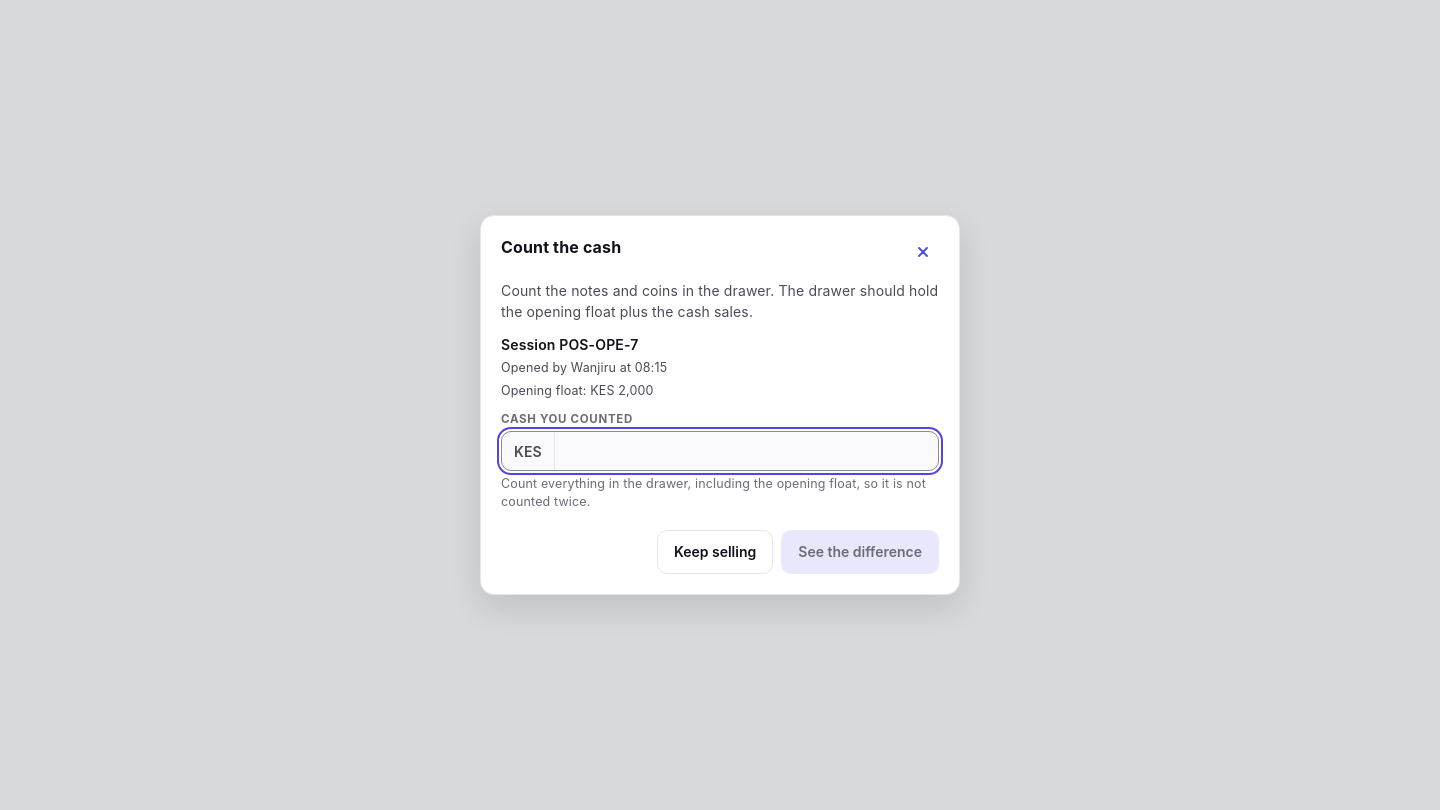
Test case: the shift-end count dialog › an over count shows an info icon and "Over by KES 100"
The image size is (1440, 810).
Type "5600" into the field labelled "Cash you counted" at (746, 451), box [555, 432, 938, 470]
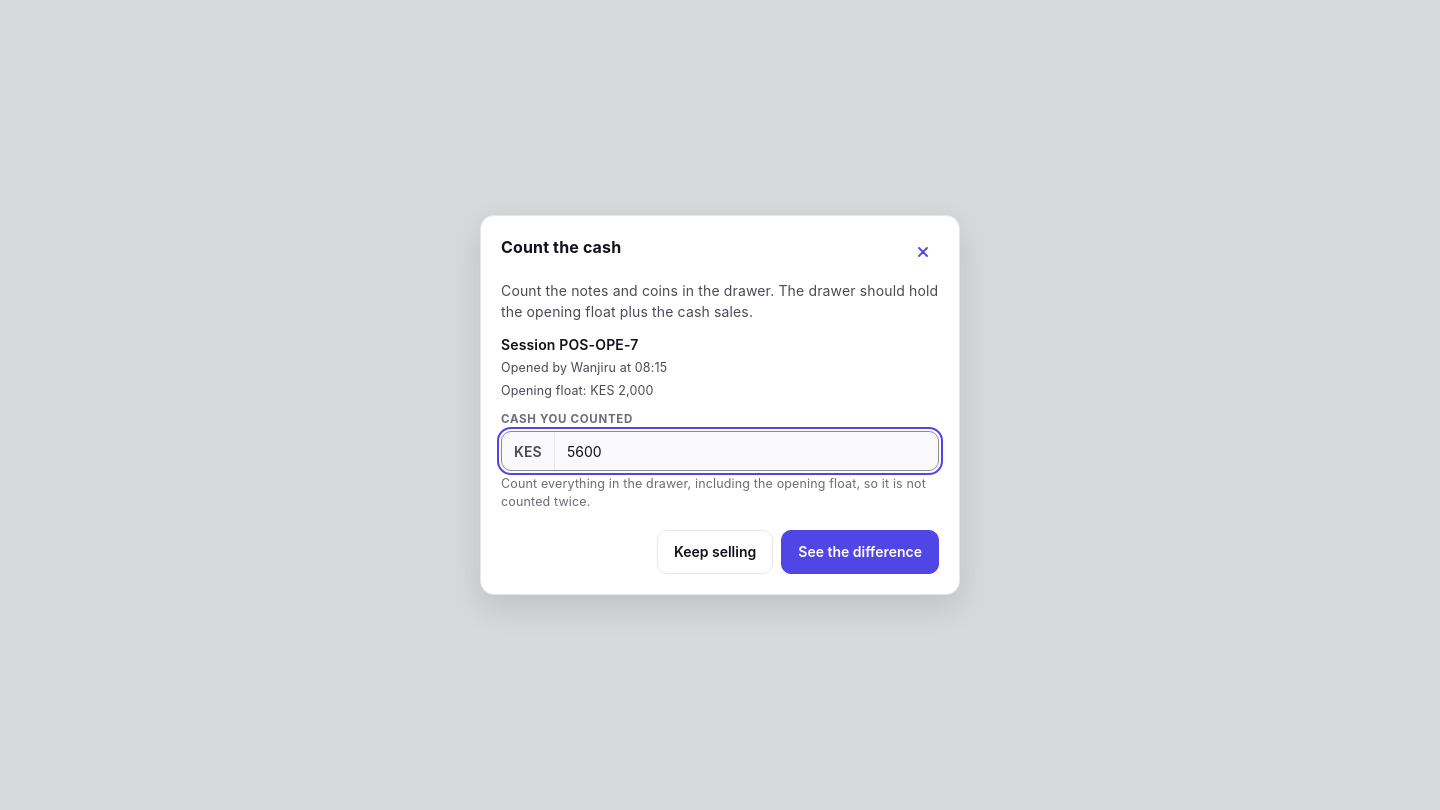
Click the button "See the difference" at (860, 552), box [781, 530, 939, 574]
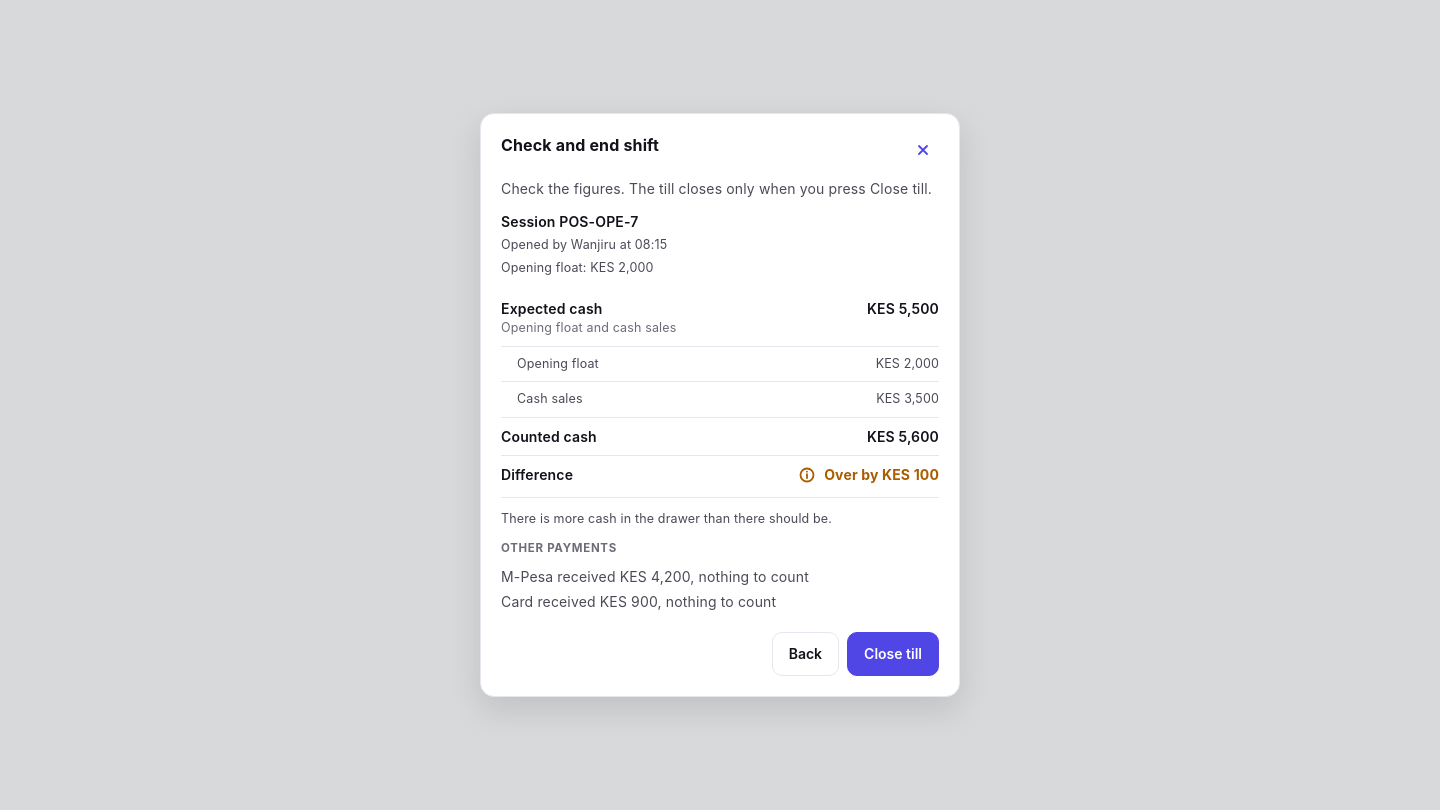
expect the icon next to "Over by KES 100" is shown: met, box [798, 466, 816, 484]
